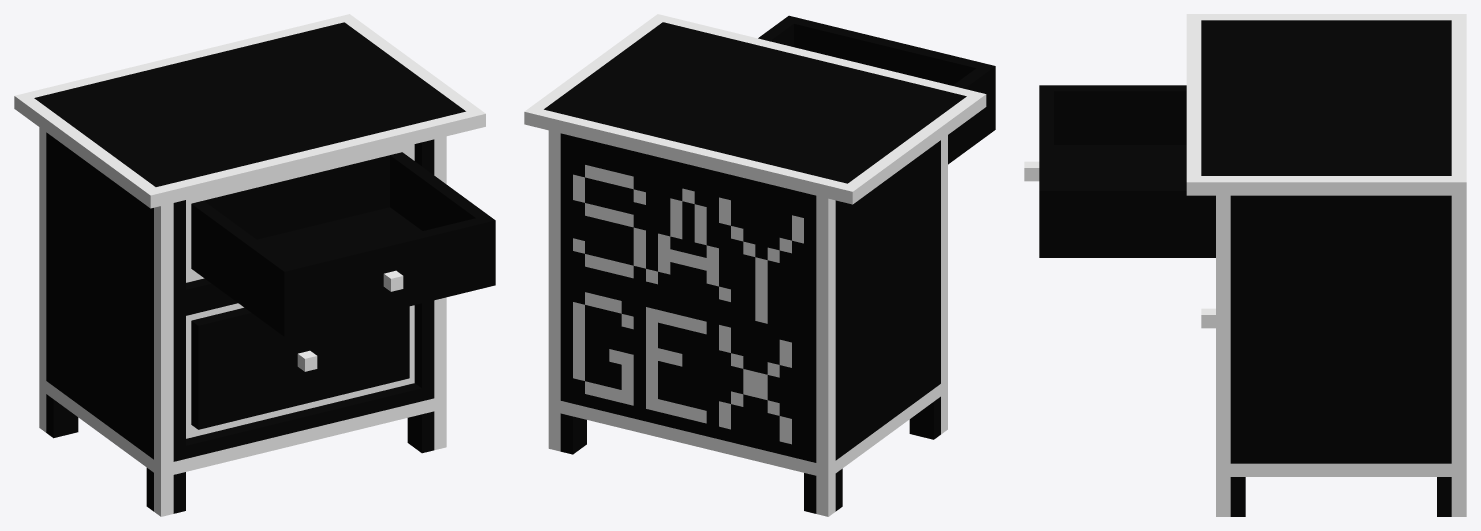
File: DrawerOpen.obj
The picture shows the model from 3 angles, left to right: view 1: azimuth 30°, elevation 25°; view 2: azimuth 150°, elevation 25°; view 3: azimuth 270°, elevation 25°; orthographic projection. The views are drawn at different scales.
Bounding box in the file's own units: 2.7 × 2.6 × 3.
